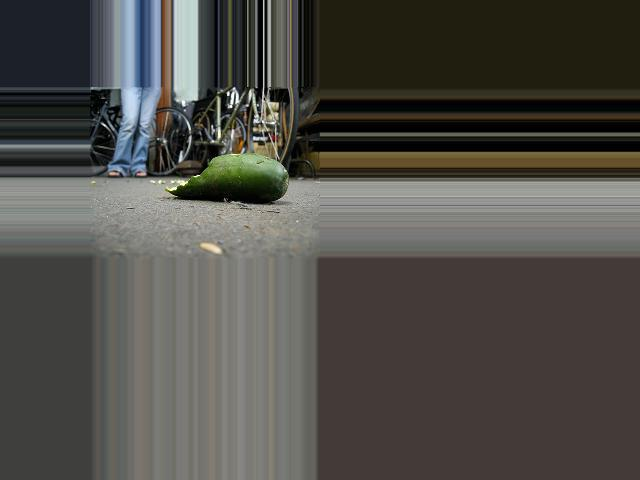cucumber: (163, 153, 288, 202)
